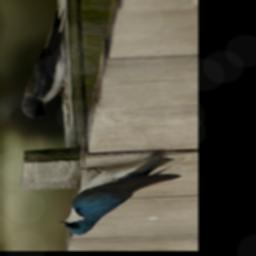Swallow: (60, 154, 181, 235)
